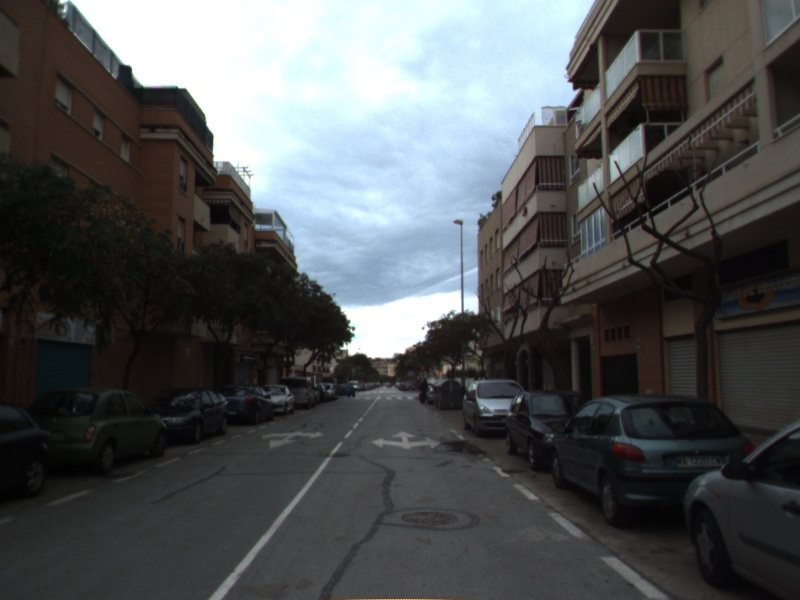STRAIGHT_LEFT_RIGHT: (368, 429, 443, 451)
